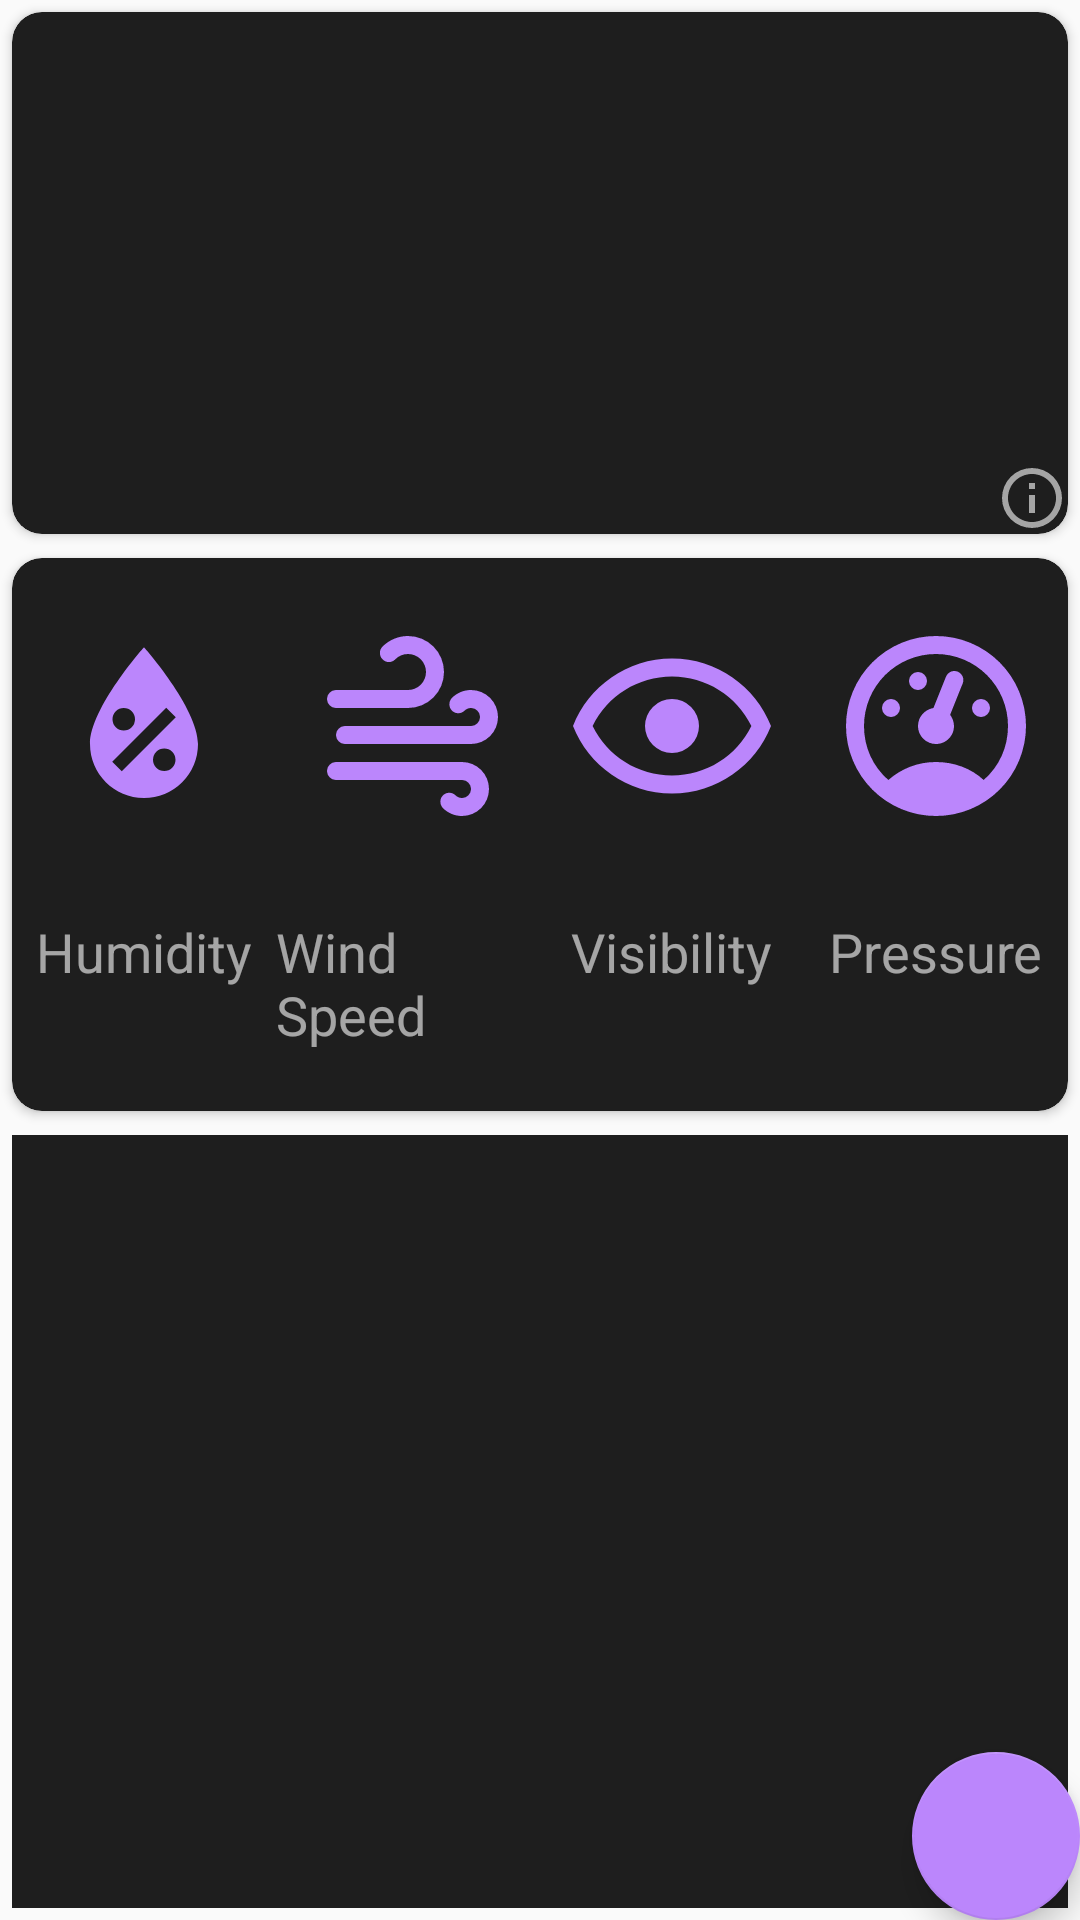

Icons on this 1080*1920 Android screen, each with the point to tap as point (x, y):
eye: point (672, 726)
gauge: point (936, 726)
information: point (1032, 498)
water percent: point (144, 722)
weather windy: point (412, 726)
